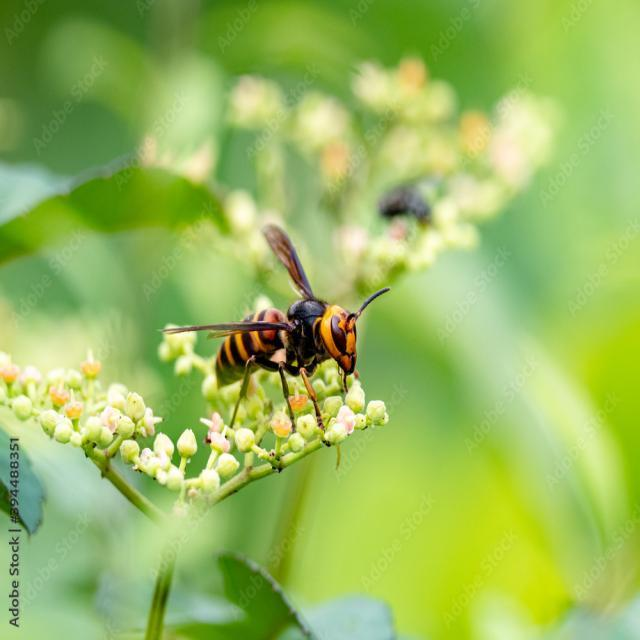Wasp: (149, 219, 387, 434)
